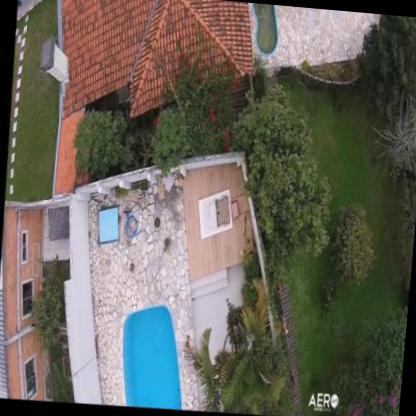agua: (250, 3, 282, 56)
